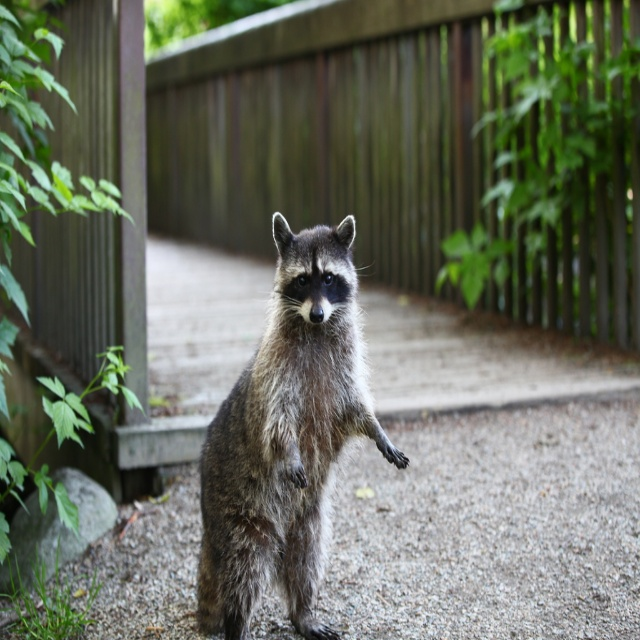Raccoon: (197, 211, 406, 639)
